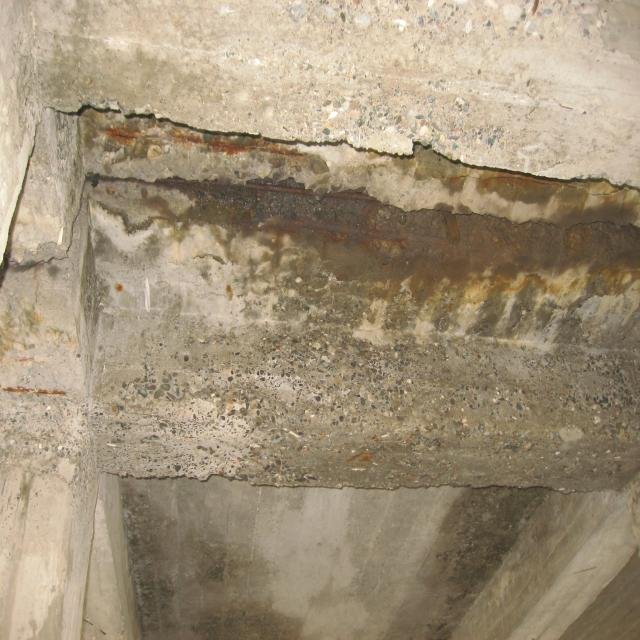corrosion: (103, 125, 640, 320), (108, 389, 566, 480), (0, 378, 69, 401)
